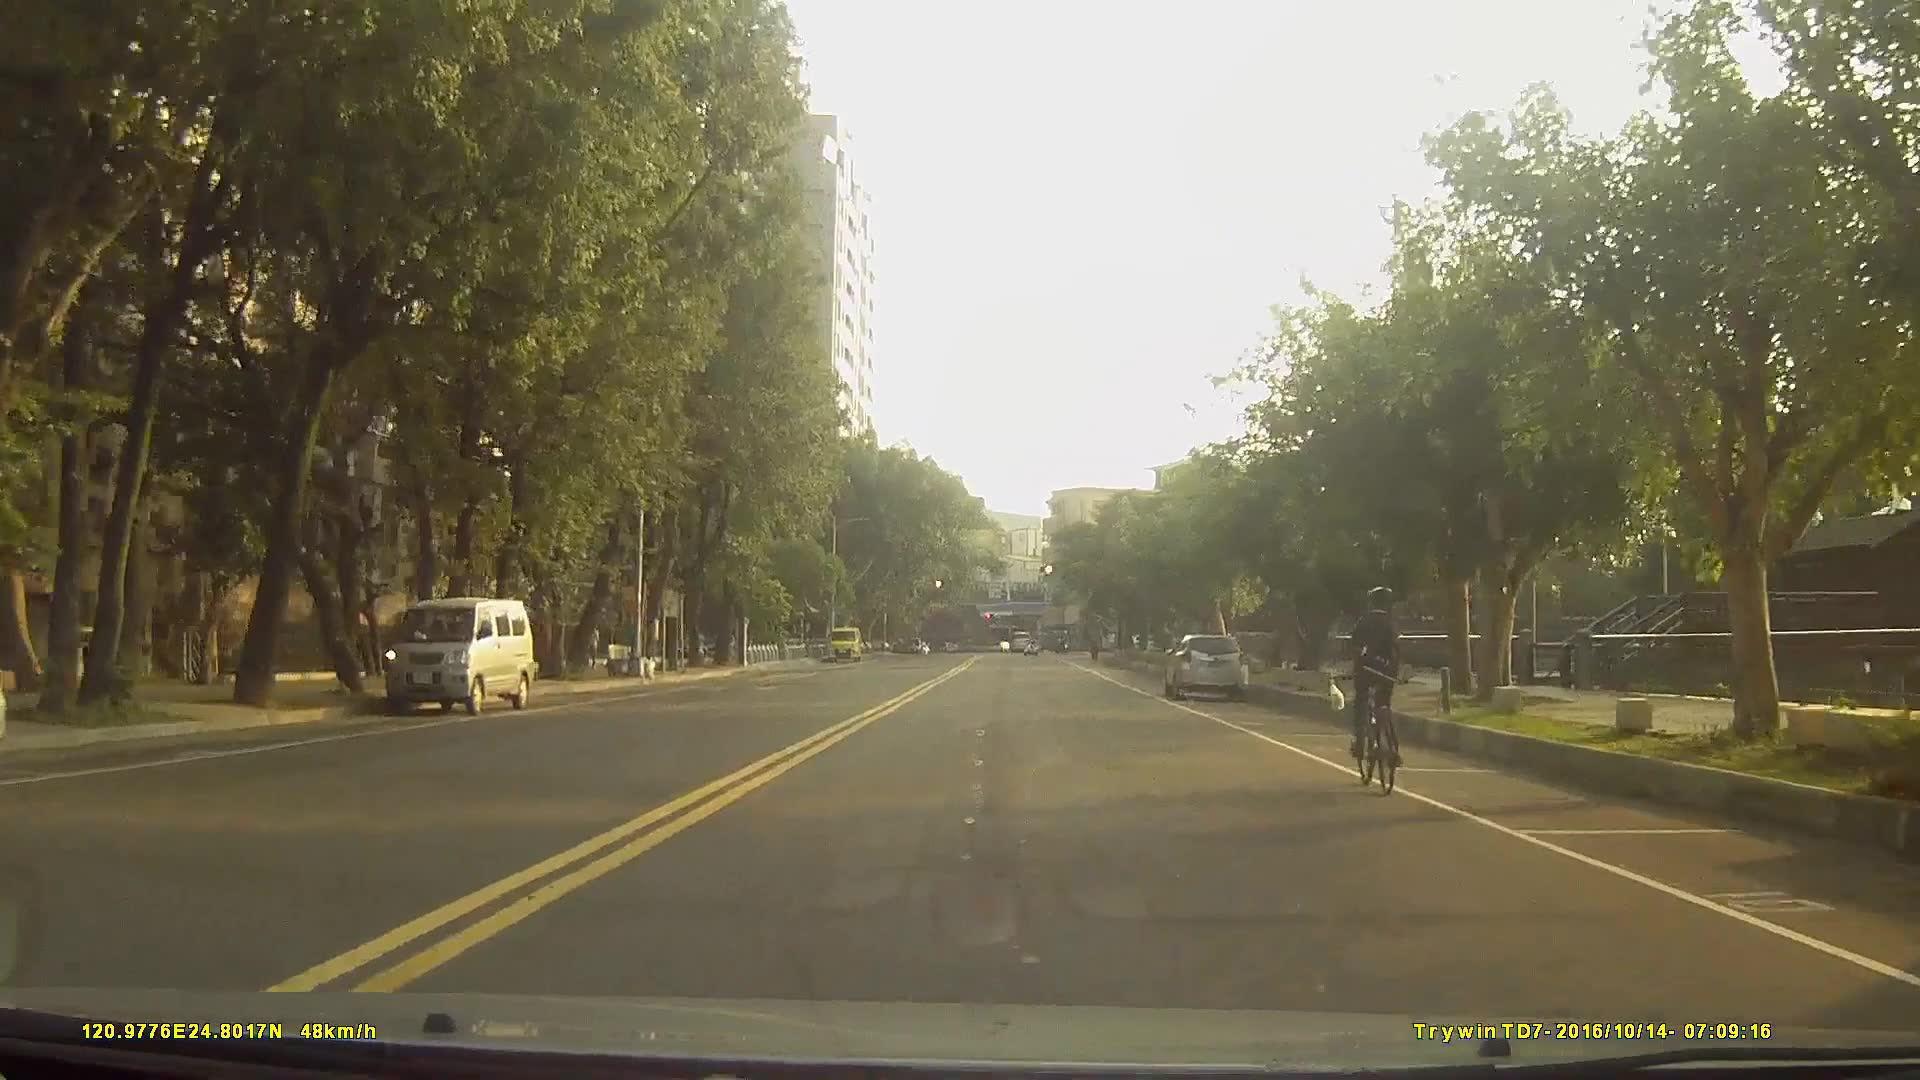rider: (1343, 584, 1402, 789)
vehicle: (385, 594, 534, 714), (1164, 630, 1250, 700), (1007, 625, 1032, 651)
